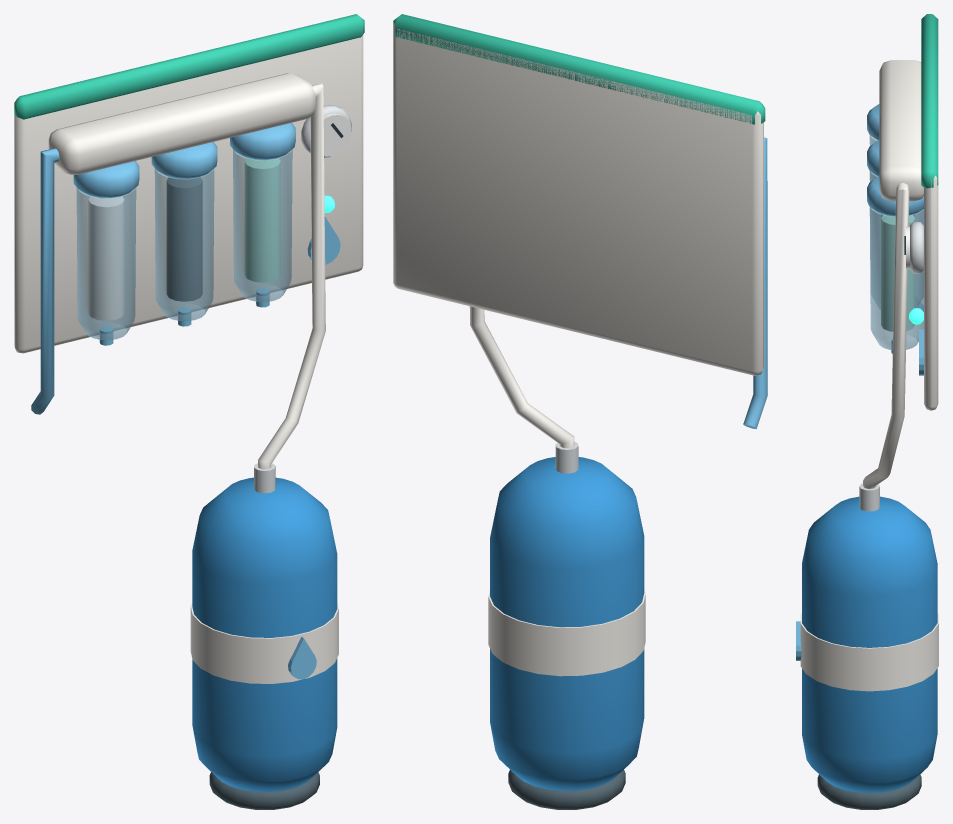
File: water_filter.glb
3 views of the same model, side by side, from view 1: azimuth 30°, elevation 25°; view 2: azimuth 150°, elevation 25°; view 3: azimuth 270°, elevation 25° (orthographic). The views are drawn at different scales.
Parts seen in each view (by area): view 1: WaterFilter; view 2: WaterFilter; view 3: WaterFilter.
Boxes of the visible parts, bbox=[...] form: WaterFilter: bbox=[14, 14, 364, 809]; WaterFilter: bbox=[393, 14, 767, 809]; WaterFilter: bbox=[796, 14, 938, 809].
Size of the model in its own units: 0.8 by 1.58 by 0.3025.
